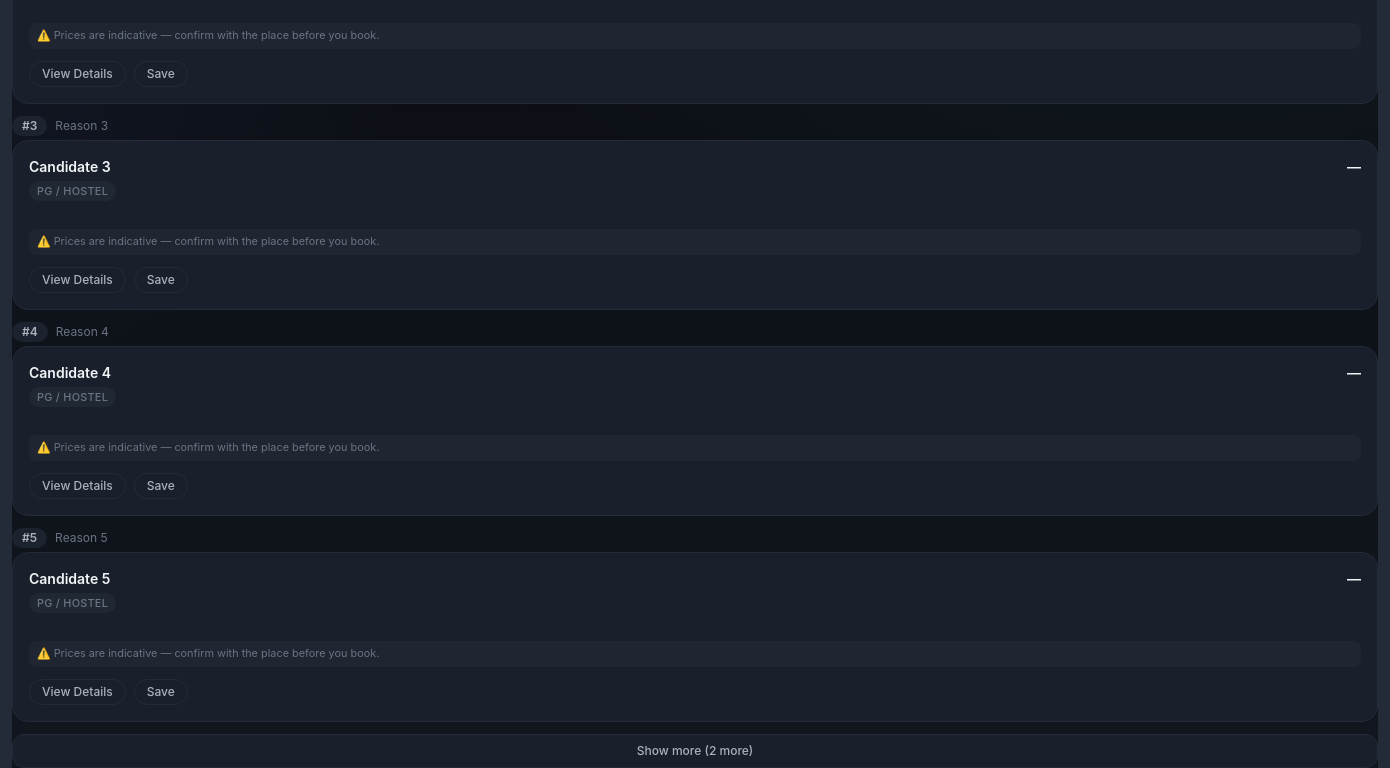
it: RecommendationCard (Phase 7C — ranked list) › collapses long result sets to the top 5 with a working Show more toggle
This screenshot has width=1390, height=768.
(page scrolled)
Check: the text "Candidate 6" is not shown
Check: the text "Candidate 7" is not shown
Click the button "Show more (2 more)": (695, 751) [12,734,1378,767]
(page scrolled)
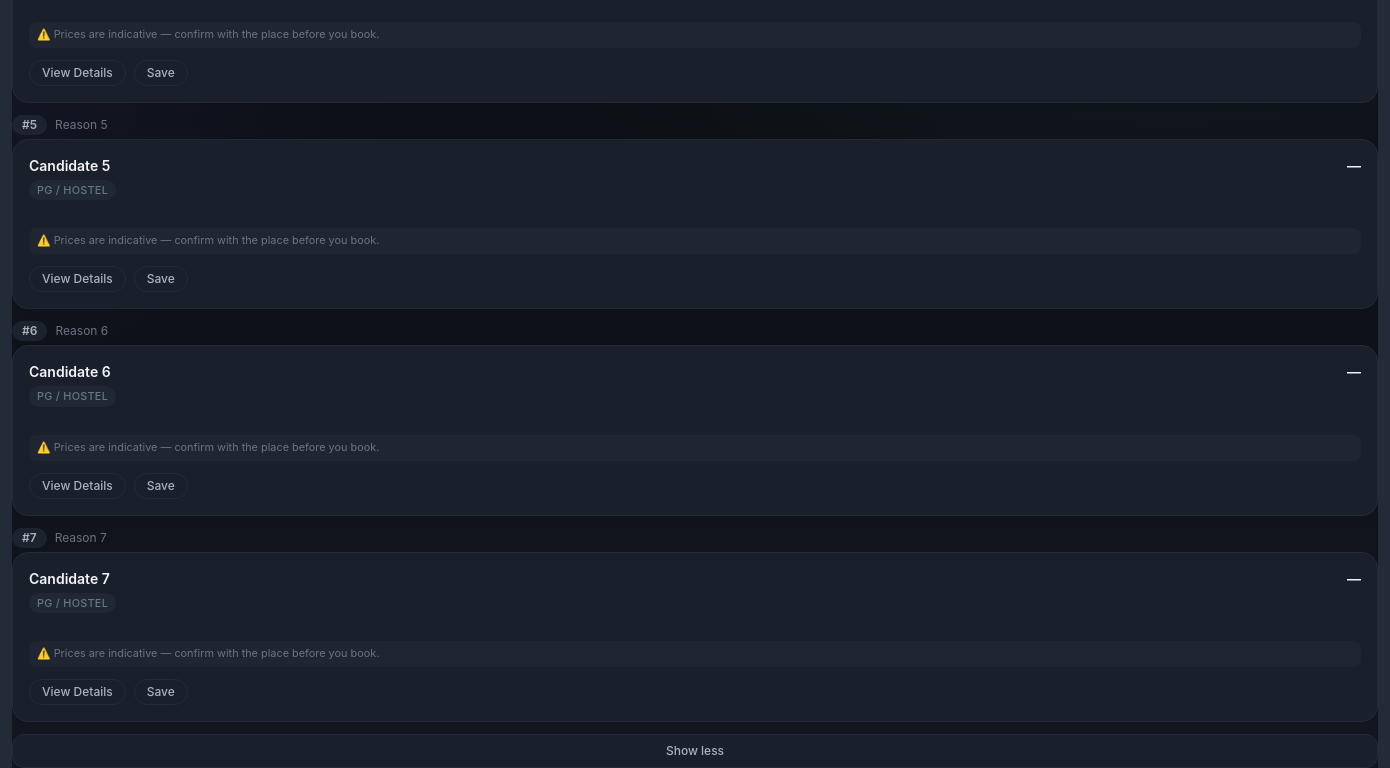
Check: the heading "Candidate 6" is shown, box [29,362,116,382]
Check: the heading "Candidate 7" is shown, box [29,568,116,588]
Click the button "Show less": (695, 751) [12,734,1378,767]
(page scrolled)
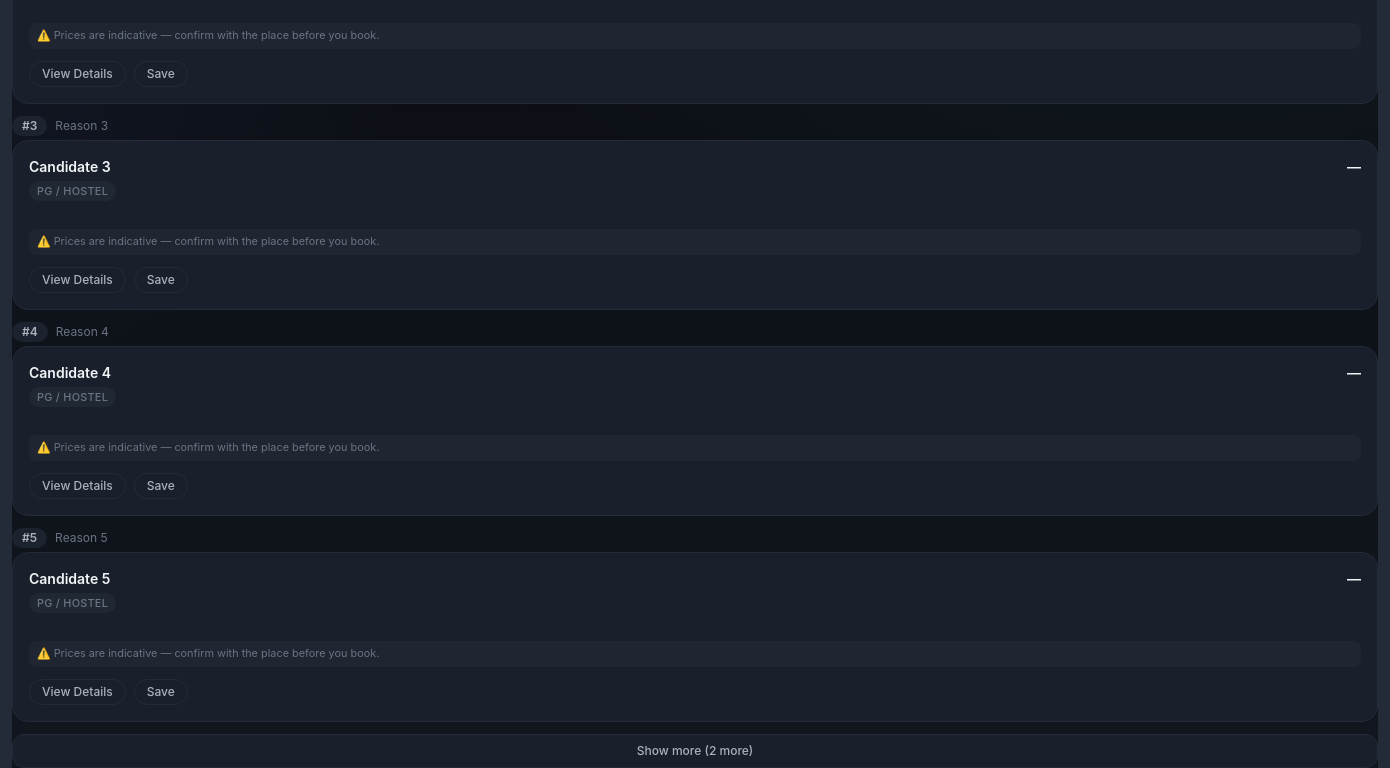
Check: the heading "Candidate 6" is gone
